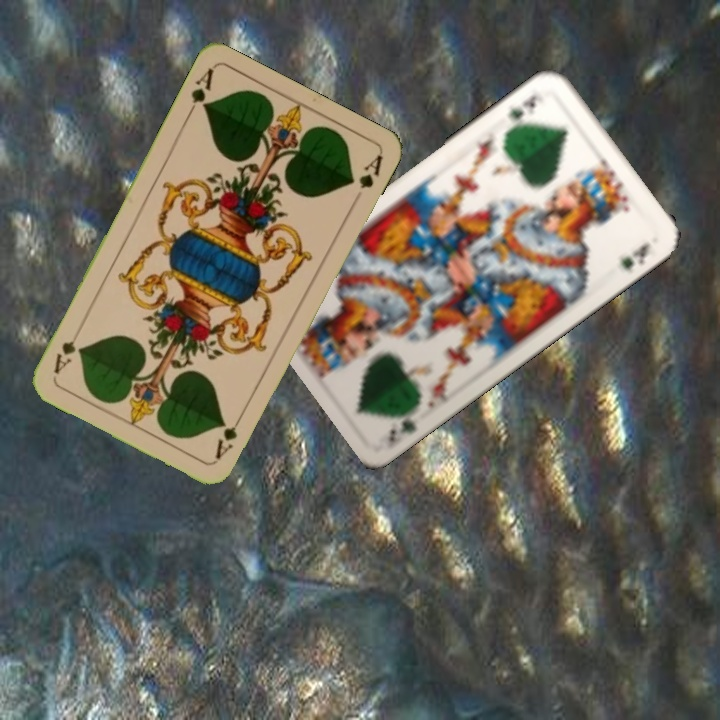GA: (182, 64, 217, 121), (211, 408, 246, 462)
GK: (503, 90, 546, 133), (384, 401, 421, 445)
